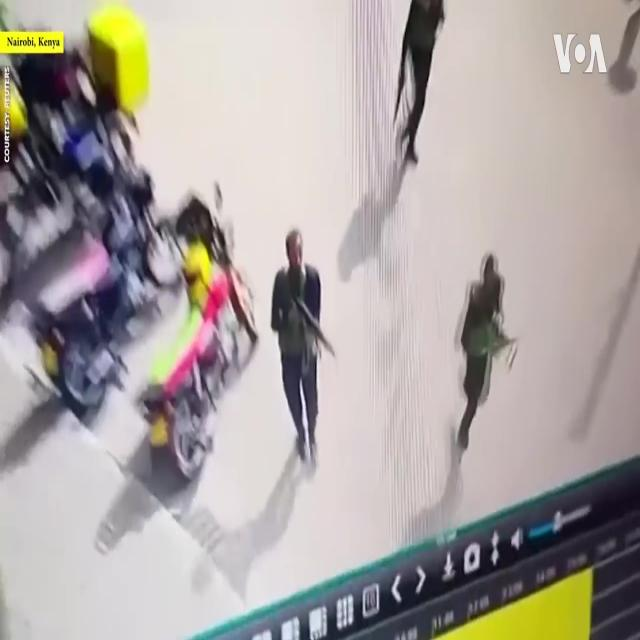Weapon: (271, 267, 355, 382), (385, 48, 419, 136), (475, 323, 526, 374)
